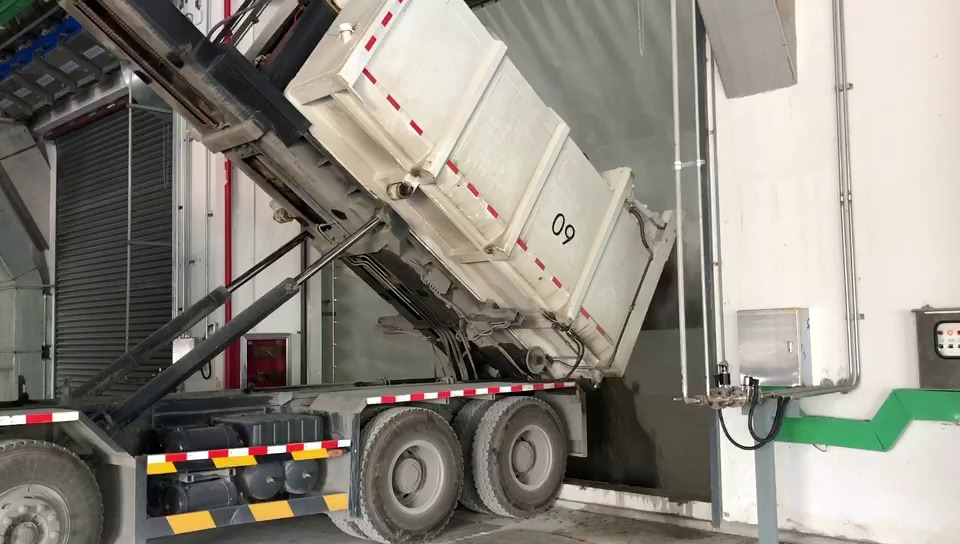truck: (0, 0, 680, 542)
